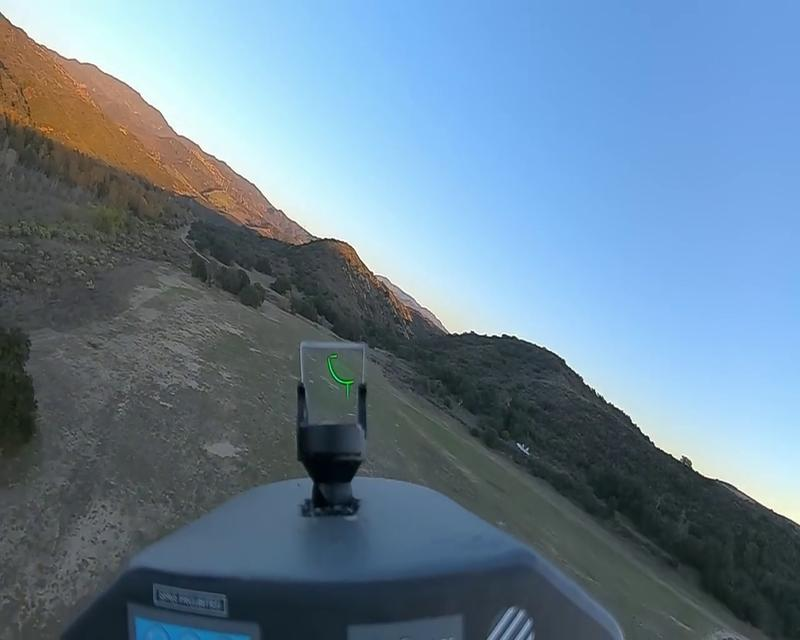UAV: (515, 441, 531, 456)
